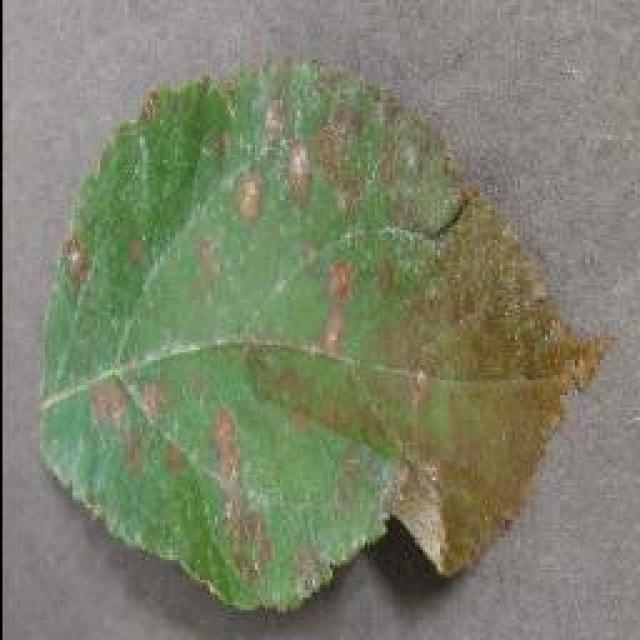Apple___Cedar_apple_rust: (32, 48, 624, 623)
